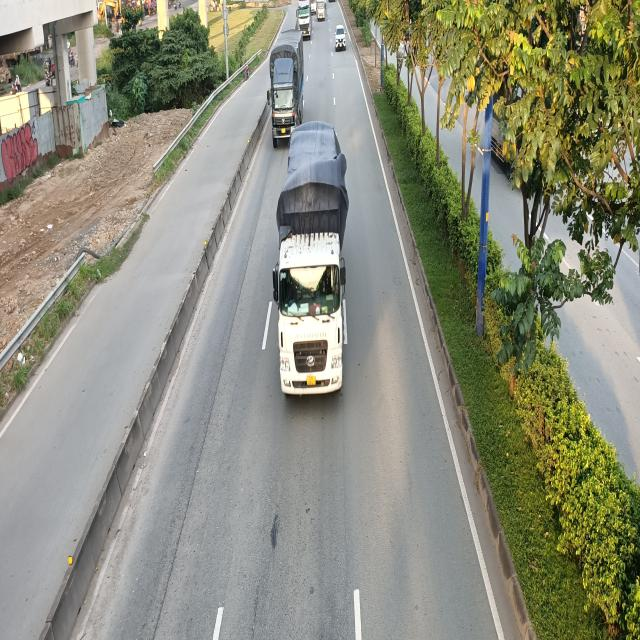car: (335, 25, 347, 52)
truck: (271, 122, 349, 401), (268, 30, 306, 144)
